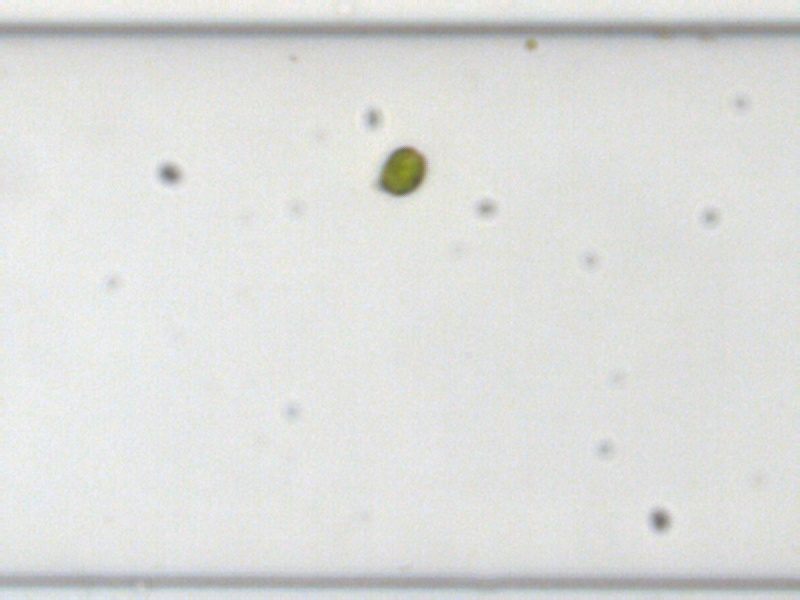Chlorella: (521, 36, 537, 52)
Platymonas: (380, 143, 424, 198)
